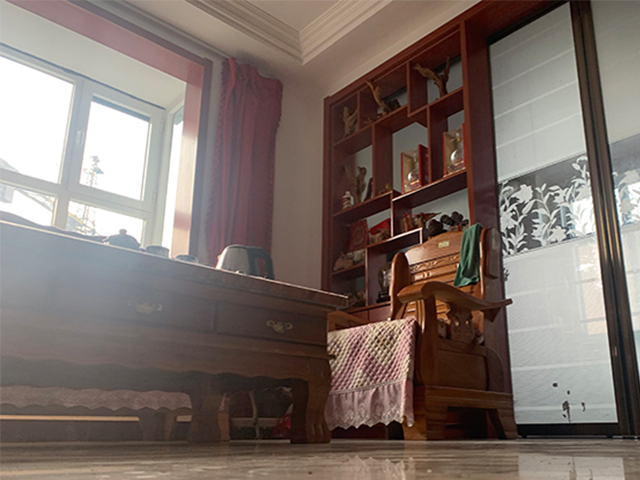sofa: (327, 226, 519, 441)
table: (1, 214, 350, 446)
